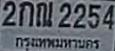2: (2, 0, 15, 25), (73, 3, 85, 28), (58, 2, 70, 27)
4: (102, 4, 114, 29)
5: (87, 3, 100, 28)
A01: (18, 0, 33, 26)
A19: (36, 1, 52, 26)
BKK: (11, 33, 102, 51)
